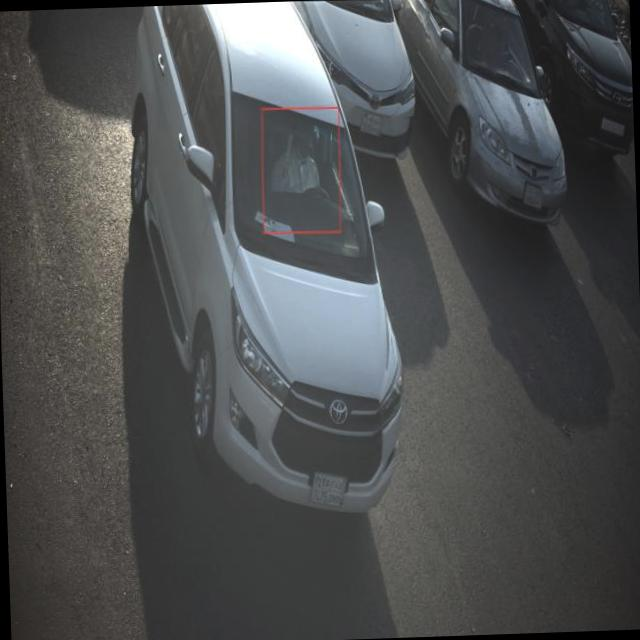person_without_seatbelt: (268, 110, 336, 228)
